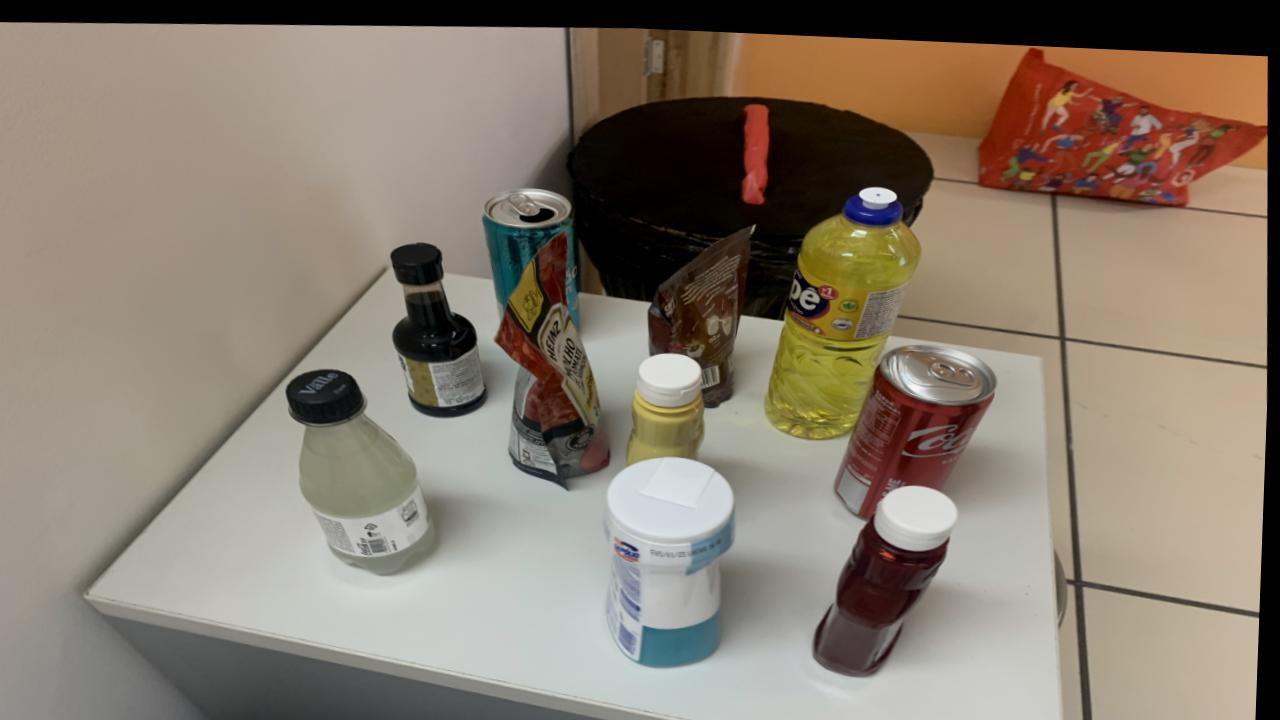Cleaner-Cleanup_Items: (608, 450, 738, 660)
Coffee-Pantry_Items: (652, 219, 756, 399)
Coke-Drinks: (838, 337, 1000, 510)
Detergent-Cleanup_Items: (767, 180, 921, 431)
English_Sauce-Pantry_Items: (394, 240, 490, 412)
Ketchup-Pantry_Items: (819, 476, 960, 668)
Mustard-Pantry_Items: (630, 347, 707, 459)
Soda-Drinks: (289, 367, 438, 570)
Tea-Drinks: (483, 183, 582, 320)
Tomato_Sauce-Pantry_Items: (499, 227, 612, 478)
